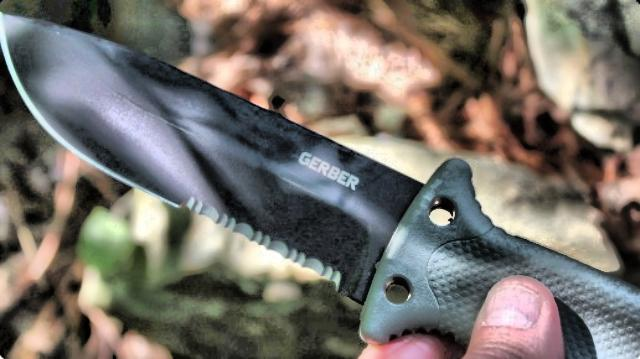knife: (0, 0, 492, 358)
